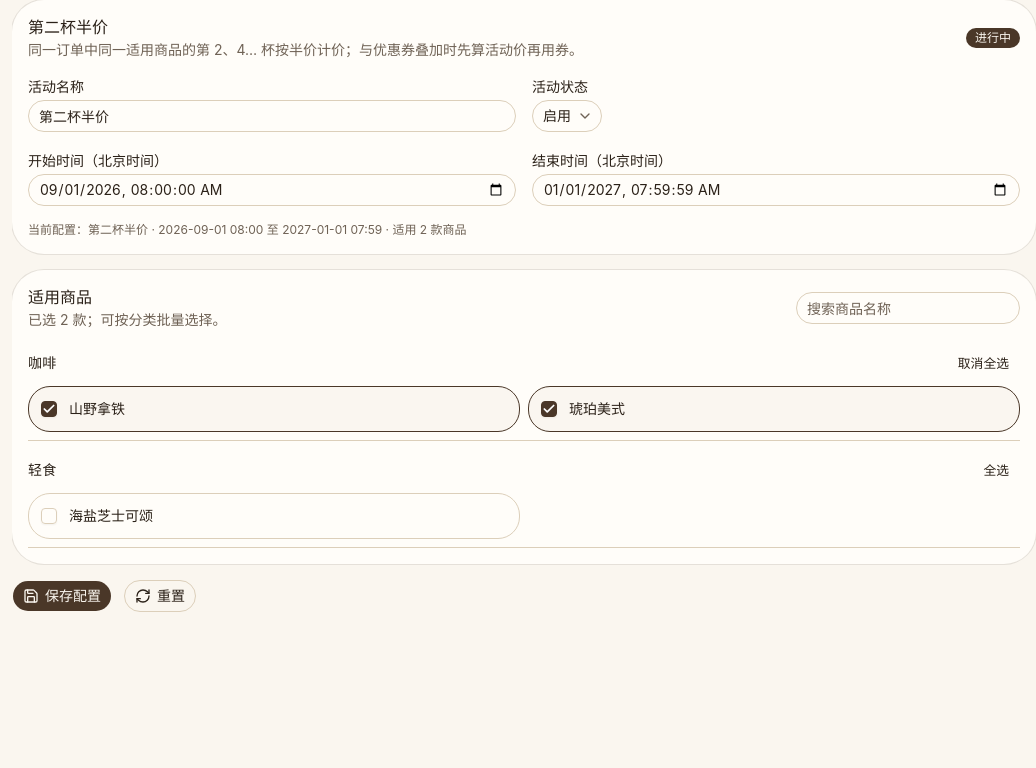
Test: PromoPage › 未选择适用商品时阻止保存
The image size is (1036, 768).
Expected: the text "第二杯半价" is shown, [28, 19, 108, 36]
What coordinates should you click on to do the following:
click the checkbox next to "山野拿铁"
I would click on:
 (49, 409)
Its box is [41, 401, 57, 417].
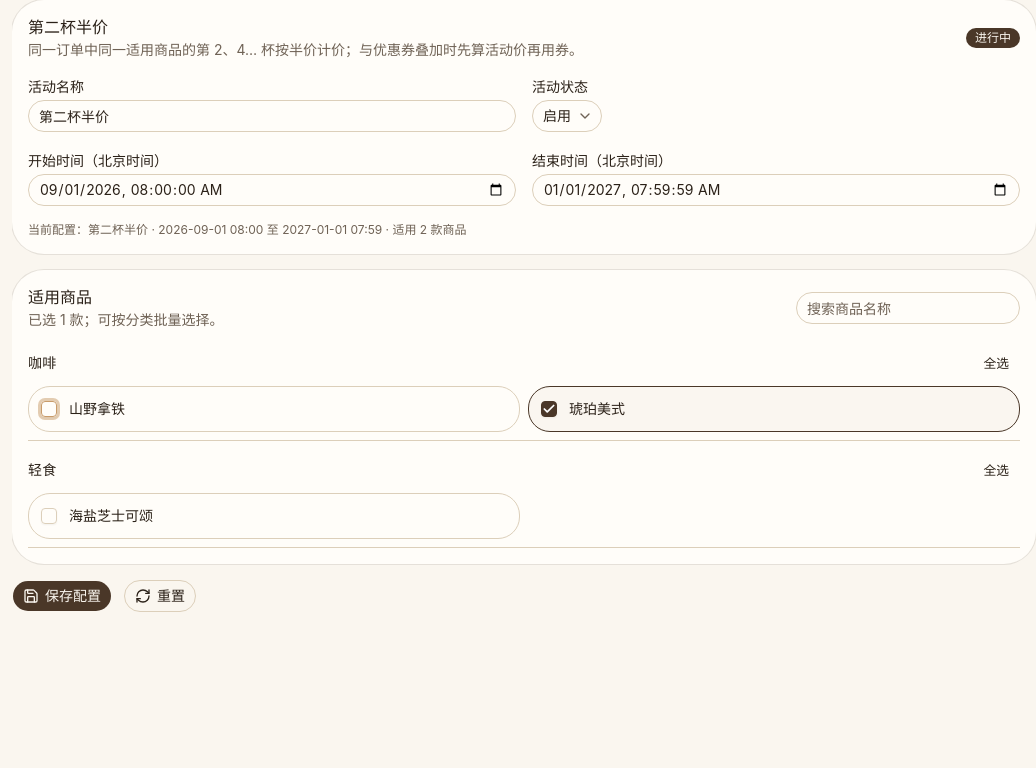
What coordinates should you click on to do the following:
click the checkbox next to "琥珀美式"
I would click on:
 (549, 409)
Its box is [541, 401, 557, 417].
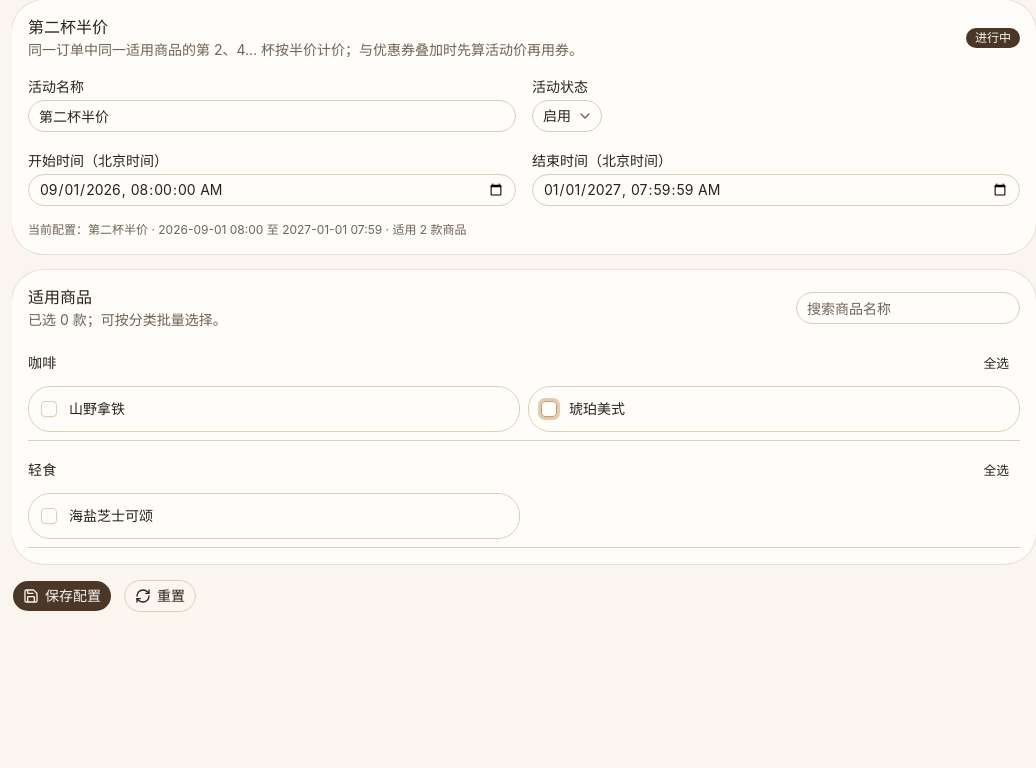
What coordinates should you click on to do the following:
click the button "保存配置"
I would click on:
 (62, 596)
Its box is [12, 580, 112, 612].
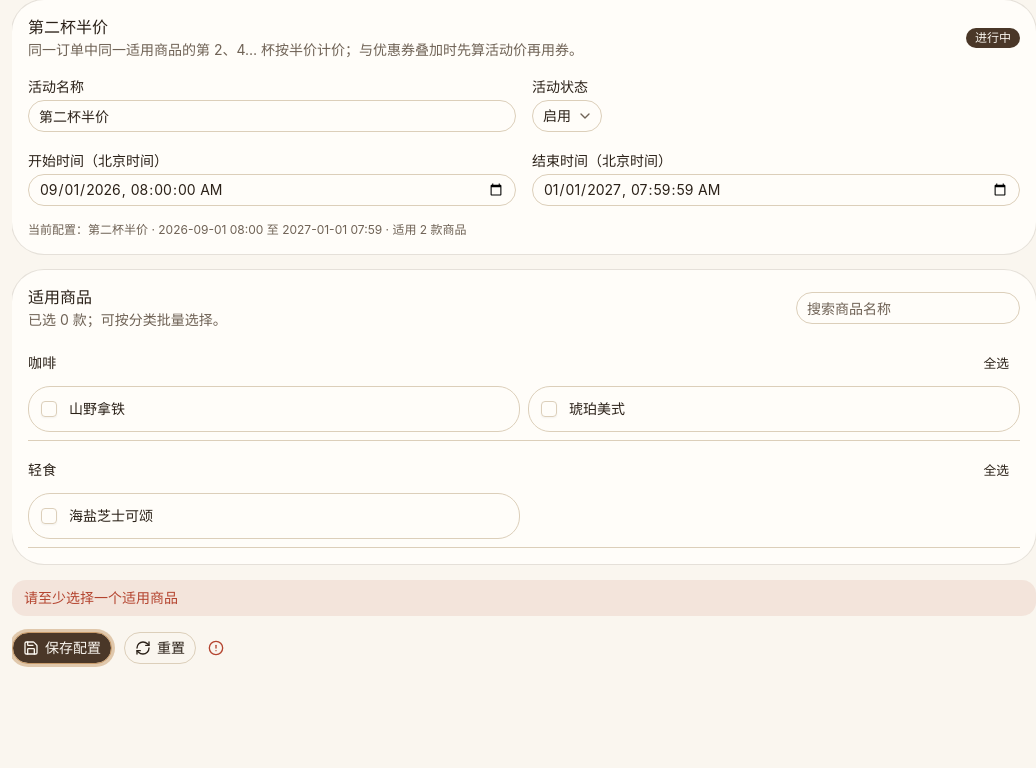
Now the message reads "请至少选择一个适用商品", box [24, 589, 178, 606]
